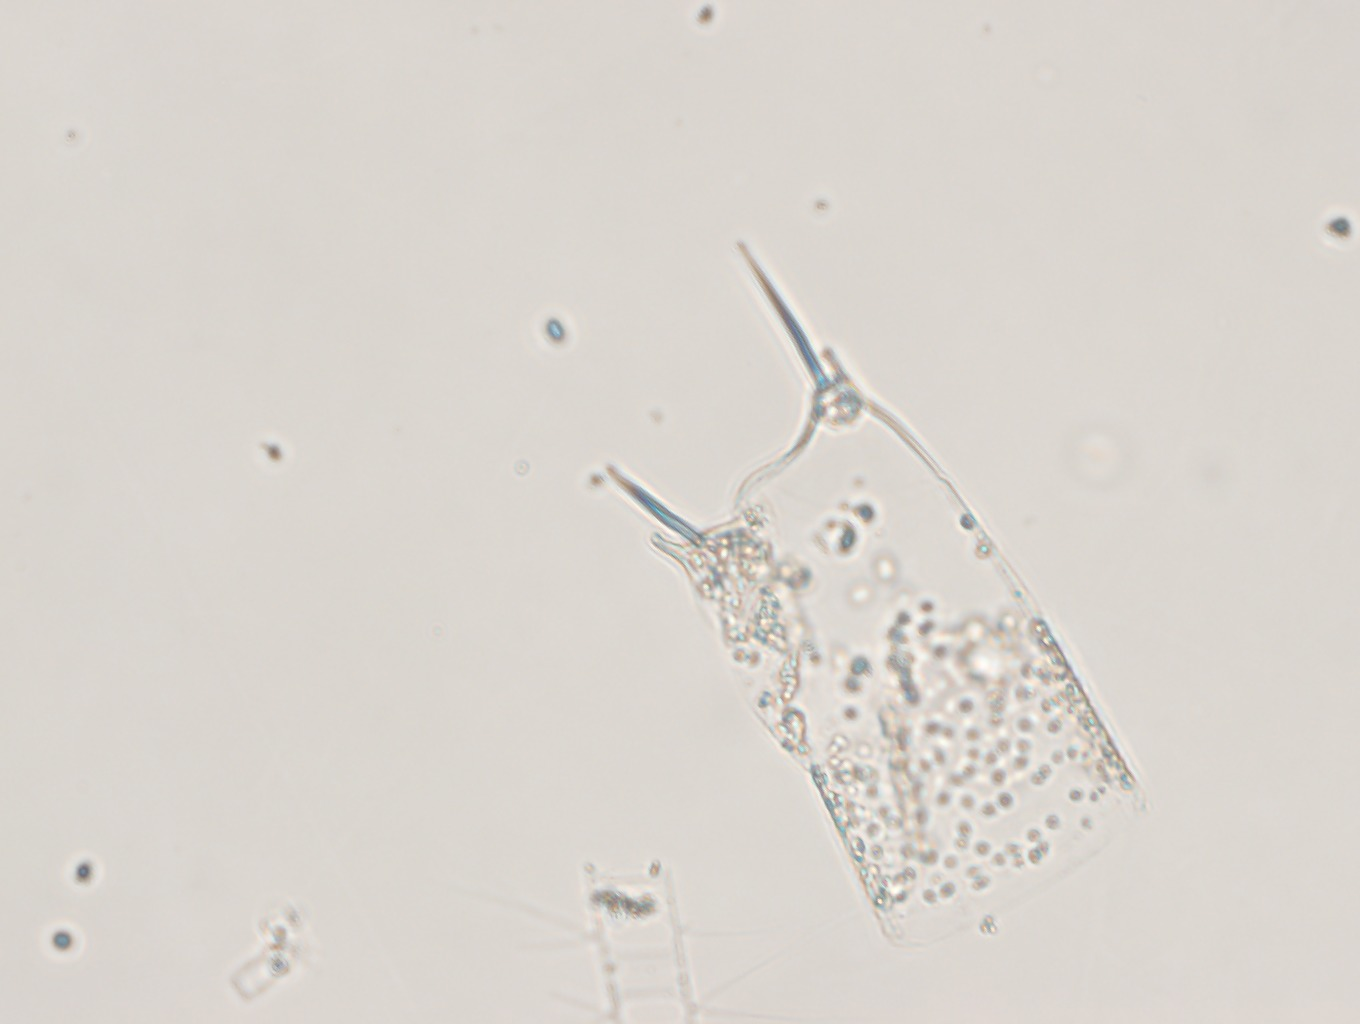biddulphia: (548, 229, 1146, 939)
chaetoceros: (466, 848, 772, 1024)
